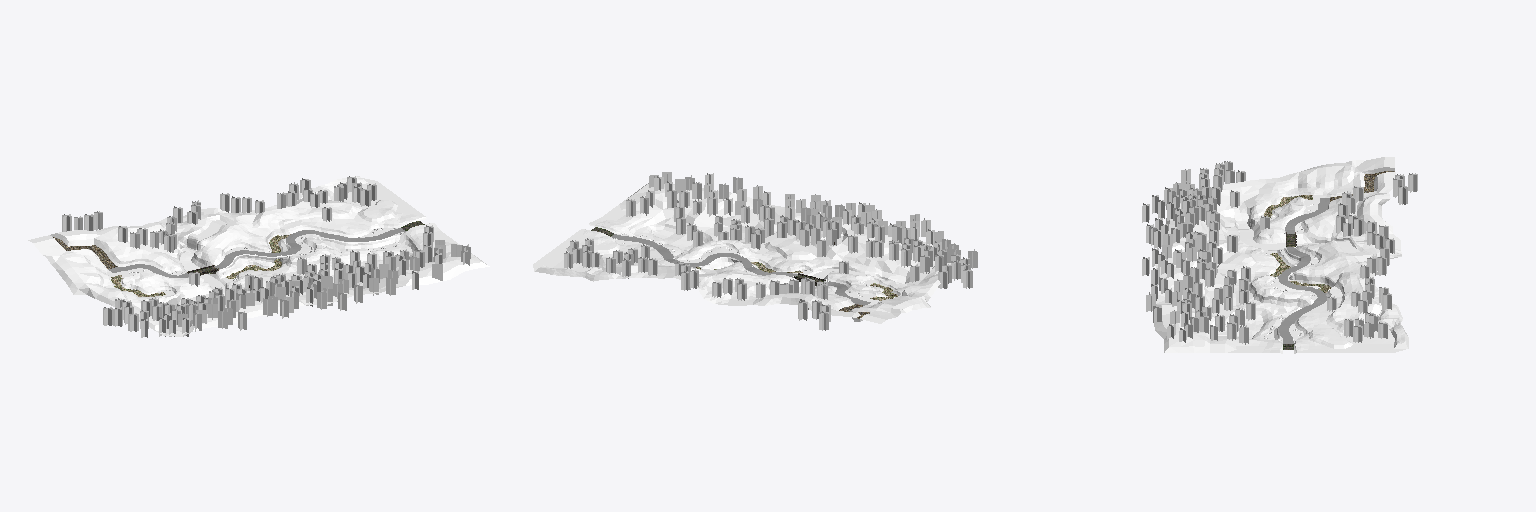
The picture shows the model from 3 angles: view 1: azimuth 30°, elevation 25°; view 2: azimuth 150°, elevation 25°; view 3: azimuth 270°, elevation 25°; orthographic projection.
Visible parts, largest first — view 1: Object.042, Object.033, Object.045, Object.038, Object.047, Object.040, Object.048; view 2: Object.042, Object.033, Object.045, Object.038, Object.047; view 3: Object.033, Object.042, Object.045, Object.038, Object.047, Object.040, Object.048.
Part boxes in pixels (x1,y1,x2,y2): Object.042: (62, 176, 470, 337); Object.033: (28, 176, 481, 336); Object.045: (47, 179, 489, 331); Object.038: (108, 228, 405, 277); Object.047: (107, 228, 403, 295); Object.040: (180, 220, 226, 300); Object.048: (111, 234, 290, 296); Object.042: (564, 172, 977, 330); Object.033: (533, 184, 950, 323); Object.045: (535, 183, 940, 321); Object.038: (611, 234, 870, 305); Object.047: (615, 234, 880, 304); Object.033: (1155, 157, 1405, 352); Object.042: (1142, 161, 1417, 344); Object.045: (1154, 160, 1408, 353); Object.038: (1278, 197, 1330, 343); Object.047: (1259, 195, 1329, 342); Object.040: (1238, 224, 1370, 261); Object.048: (1264, 195, 1330, 292).
Size of the model in its own units: 322 by 41.15 by 216.
13 materials, 5 textured.